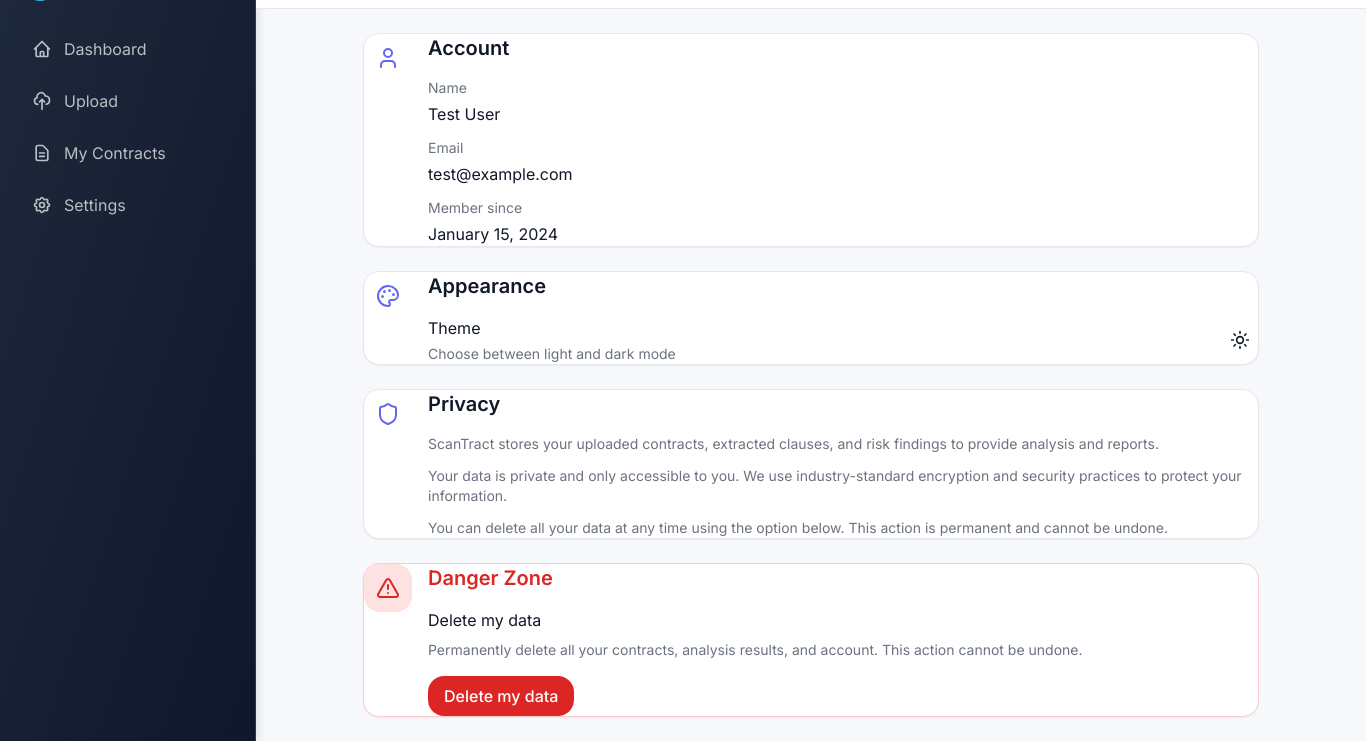
Scenario: SettingsPage › delete button is disabled until DELETE is typed
This screenshot has width=1366, height=741.
(page scrolled)
// Open modal
Click the button "Delete my data" at (501, 696), box top-left (428, 676), bottom-right (574, 716)
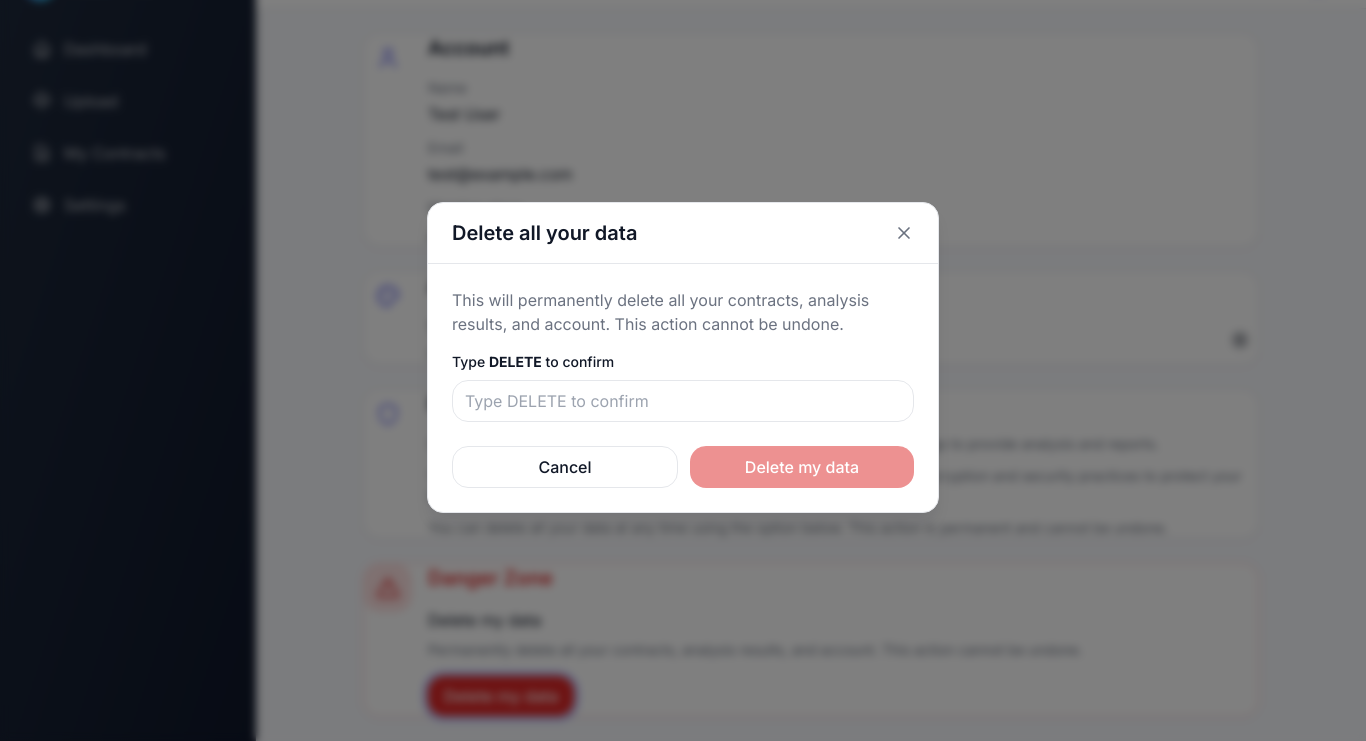
Expected: the heading "Delete all your data" is shown, top-left (452, 218), bottom-right (638, 246)
Expected: the button "Delete my data" is disabled, top-left (690, 446), bottom-right (914, 488)
// Type wrong text
Type "delete" into the field with placeholder "Type DELETE to confirm" at (683, 400), box top-left (452, 380), bottom-right (914, 422)
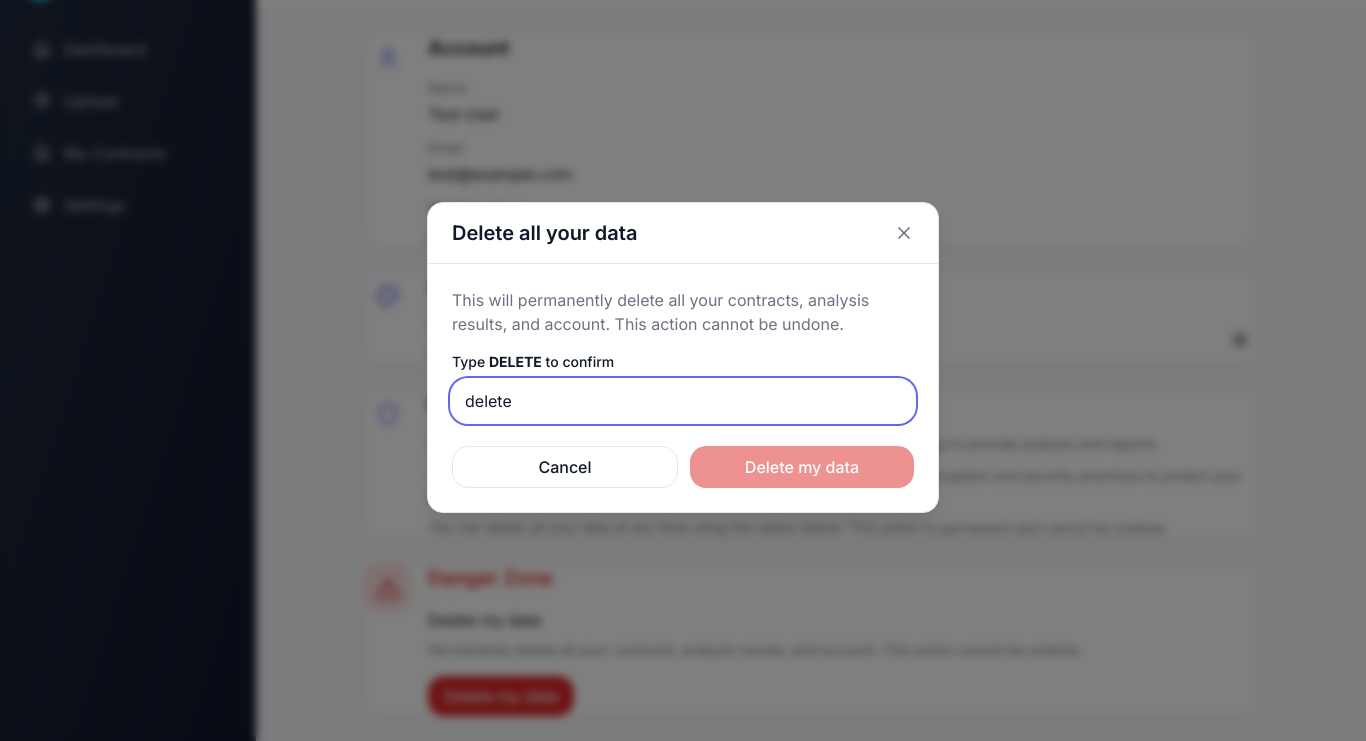
Expected: the button "Delete my data" is disabled, top-left (690, 446), bottom-right (914, 488)
// Clear and type correct text
Replace the text in the field with placeholder "Type DELETE to confirm" with "DELETE" at (683, 400), box top-left (452, 380), bottom-right (914, 422)
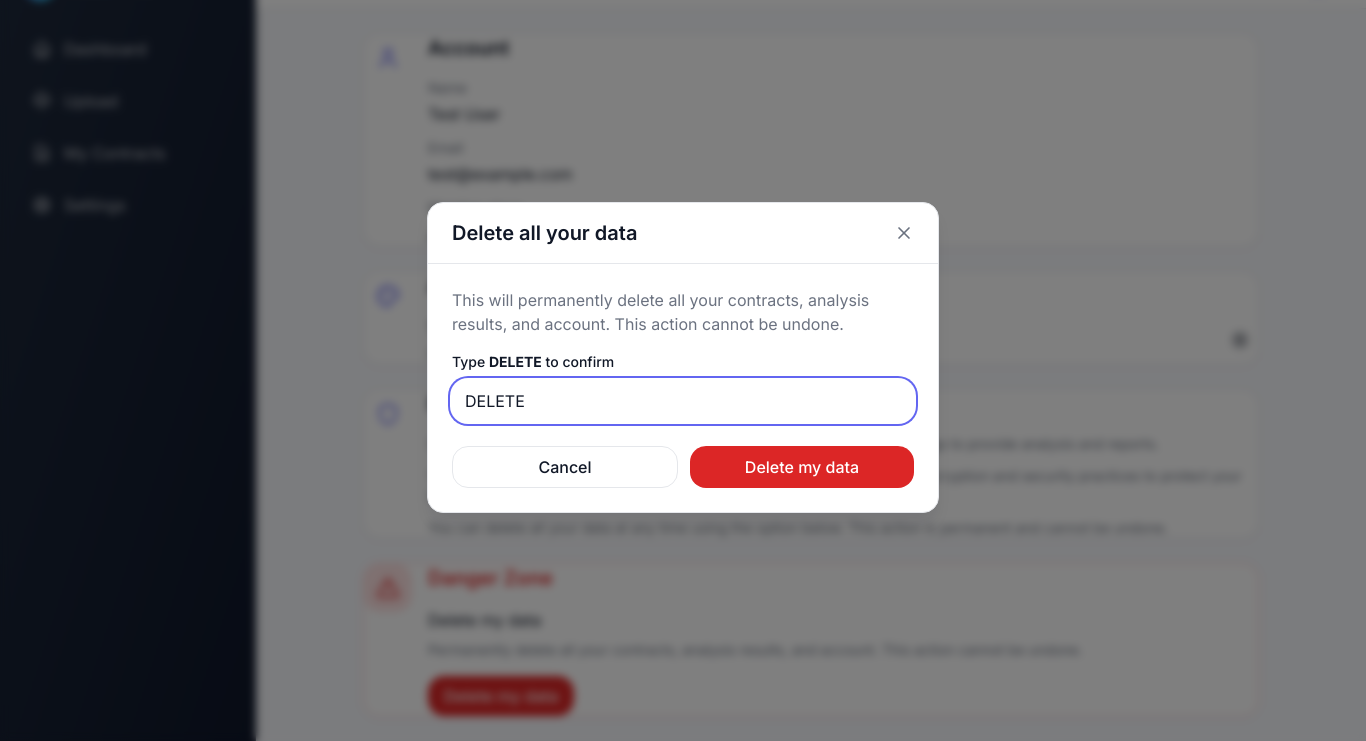
Expected: the button "Delete my data" is enabled, top-left (690, 446), bottom-right (914, 488)
